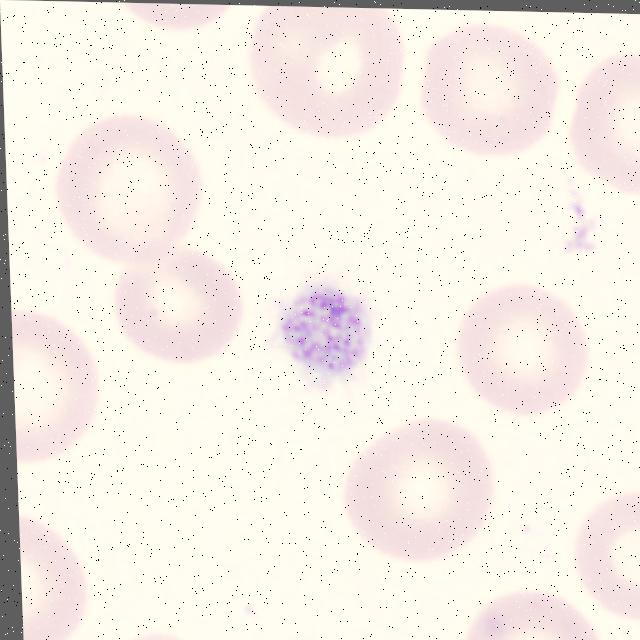platelets: (276, 281, 377, 384)
rbc: (323, 404, 511, 567), (49, 104, 204, 261), (409, 9, 563, 166), (246, 5, 408, 153), (444, 279, 586, 420), (108, 244, 249, 363), (11, 303, 111, 470), (565, 35, 640, 226), (18, 488, 100, 640), (566, 475, 640, 627), (458, 584, 601, 640), (96, 2, 245, 42), (96, 598, 216, 640)
